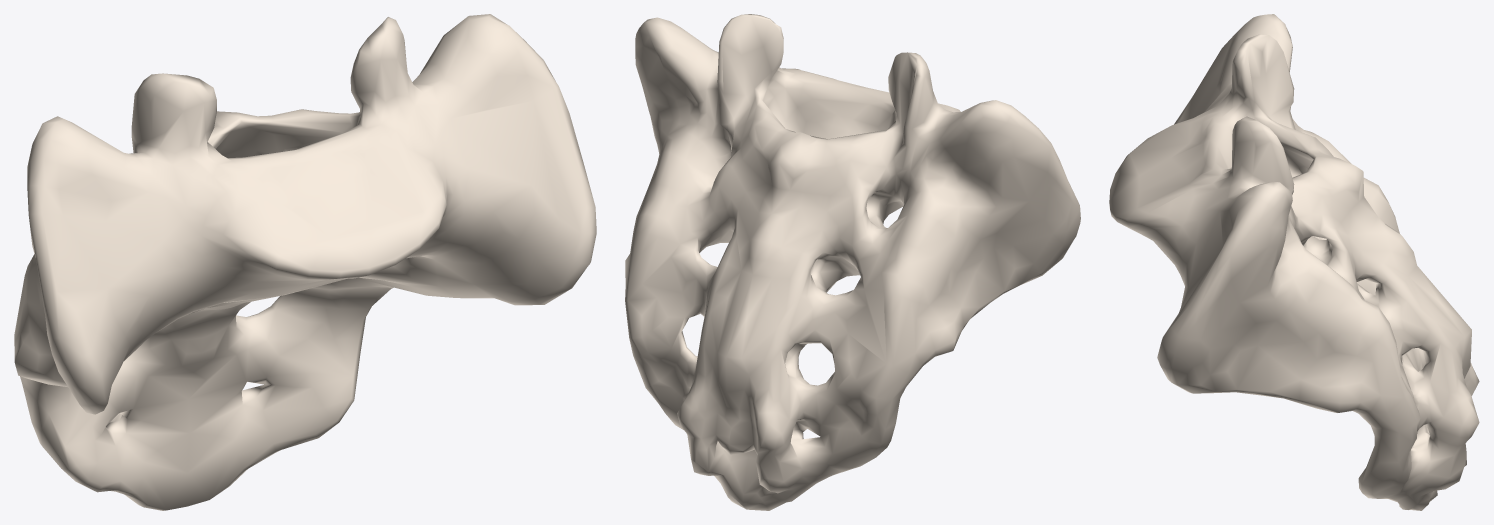
The model's file is sacrum.glb.
The picture shows the model from 3 angles, left to right: view 1: azimuth 30°, elevation 25°; view 2: azimuth 150°, elevation 25°; view 3: azimuth 270°, elevation 25°; orthographic projection. The views are drawn at different scales.
Parts seen in each view (by area): view 1: Sacrum; view 2: Sacrum; view 3: Sacrum.
Boxes of the visible parts, <box> form: Sacrum: <box>14,14,596,510</box>; Sacrum: <box>625,14,1080,510</box>; Sacrum: <box>1109,14,1479,510</box>.
Bounding box in the file's own units: 0.0767 × 0.0713 × 0.0565.
